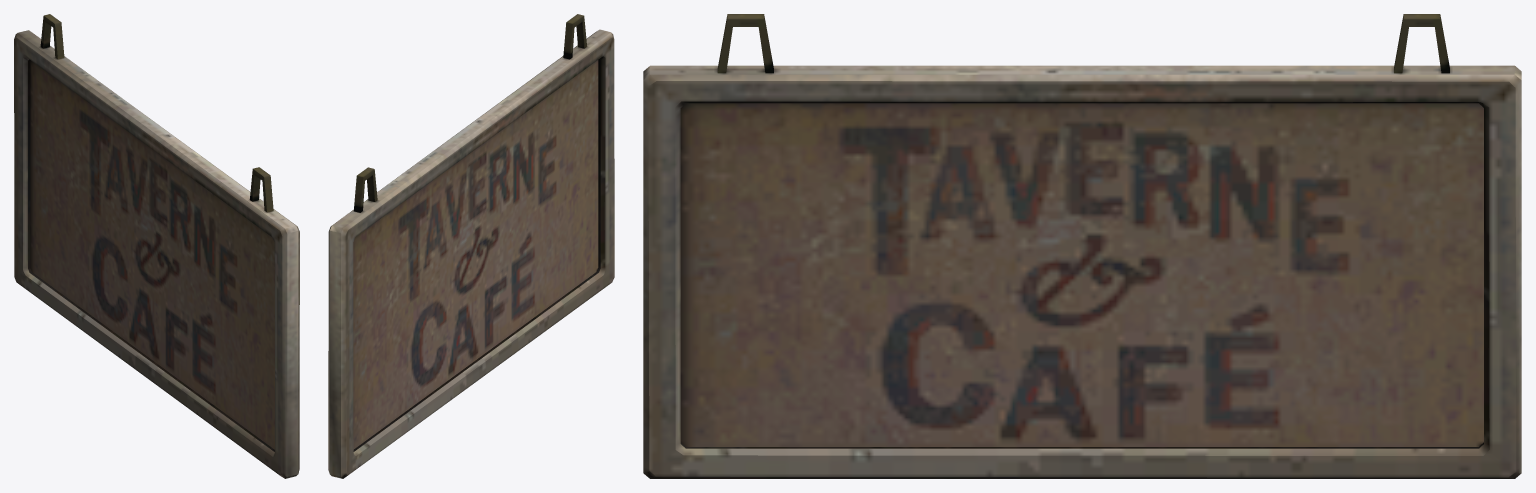
Rendered from signs_shops02.glb.
3 views of the same model, side by side, from view 1: azimuth 30°, elevation 25°; view 2: azimuth 150°, elevation 25°; view 3: azimuth 270°, elevation 25° (orthographic). The views are drawn at different scales.
Parts seen in each view (by area): view 1: signs_shops02; view 2: signs_shops02; view 3: signs_shops02.
Part boxes in pixels (x1,y1,x2,y2): signs_shops02: [14, 14, 299, 478]; signs_shops02: [328, 14, 614, 478]; signs_shops02: [643, 14, 1521, 478].
Size of the model in its own units: 0.0168 by 0.2634 by 0.4572.
Materials: 1 (1 with a texture image).
